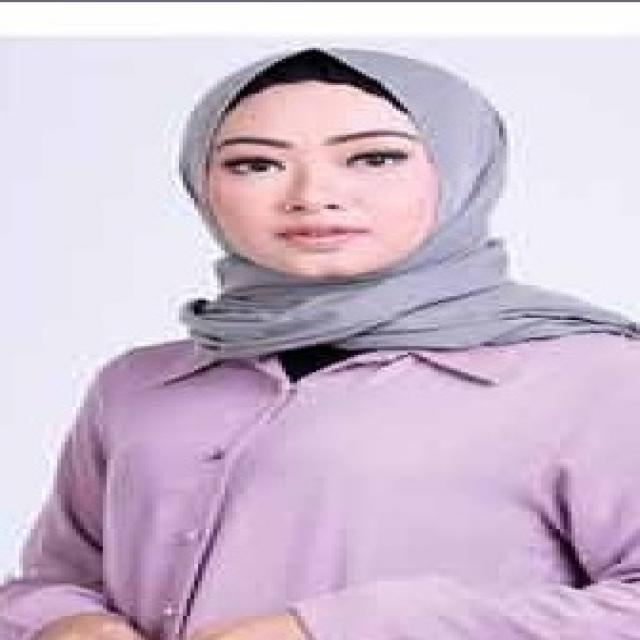head: (183, 42, 469, 287)
